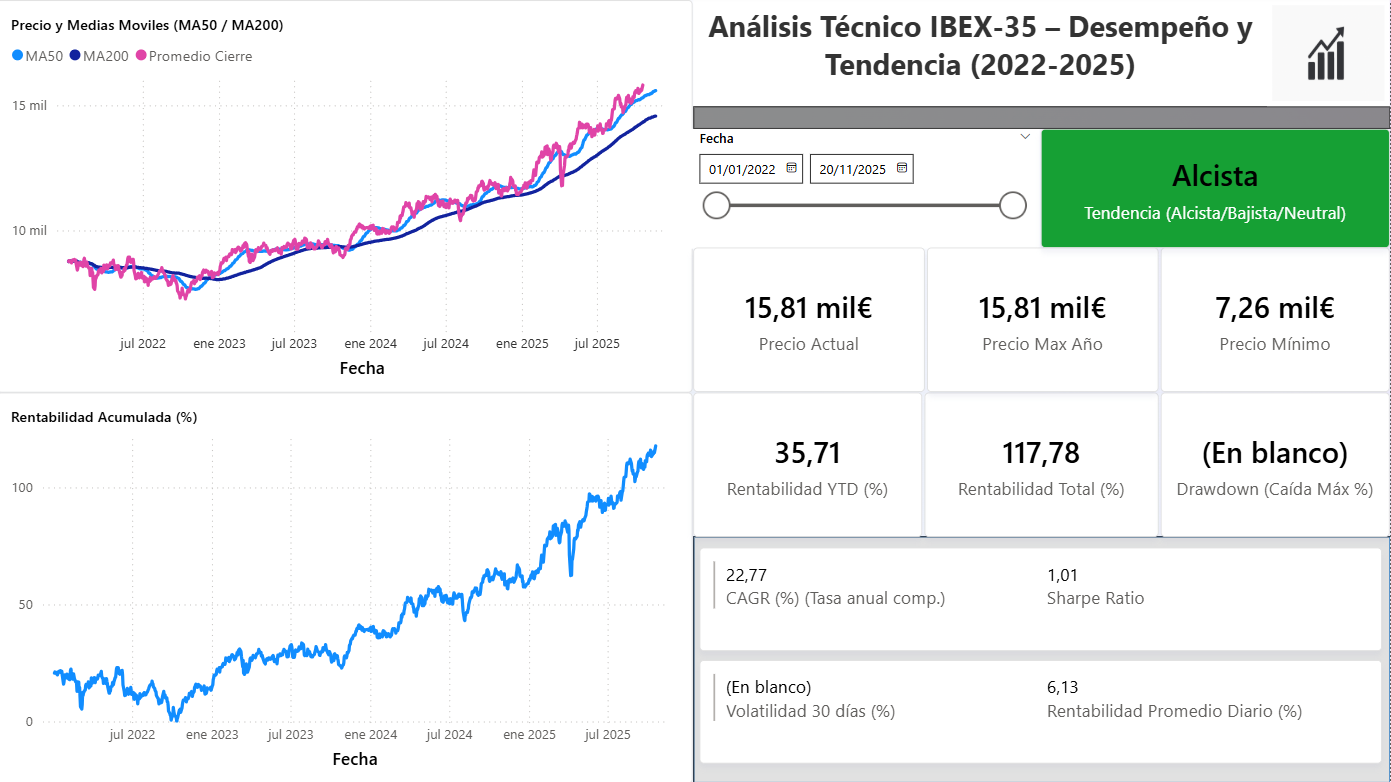

The dashboard page shown, as its layout file describes it:
{"tool":"powerbi","page":{"name":"Página 1","canvas":[1280,720],"ordinal":0},"visuals":[{"type":"shape","box":[639.5,493,640.7,226.7],"z":0},{"type":"lineChart","title":"Precio y Medias Moviles (MA50 / MA200)","fields":{"Y":["Medidas.MA50","Medidas.MA200","Medidas.Promedio Cierre"],"Category":["Dim_Fecha.Fecha"]},"box":[0,0,639.5,360.5],"z":1000},{"type":"lineChart","title":"Rentabilidad Acumulada (%)","fields":{"Y":["Medidas.Rentabilidad Acumulada Diario (%)"],"Category":["Dim_Fecha.Fecha"]},"box":[0,360.5,639.5,359.3],"z":2000},{"type":"slicer","fields":{"Values":["Dim_Fecha.Fecha"]},"box":[637.2,118.6,319.8,109.3],"z":3000},{"type":"card","fields":{"Values":["Medidas.Precio Actual"]},"box":[639.5,227.9,212.8,132.6],"z":4000},{"type":"card","fields":{"Values":["Medidas.Rentabilidad Total (%)"]},"box":[852.3,360.5,215.1,132.6],"z":5000},{"type":"card","fields":{"Values":["Medidas.Rentabilidad YTD (%)"]},"box":[639.5,360.5,210.5,132.6],"z":6000},{"type":"card","fields":{"Values":["Medidas.Precio Max Año"]},"box":[854.7,227.9,212.8,132.6],"z":7000},{"type":"card","fields":{"Values":["Medidas.Precio Mínimo"]},"box":[1069.8,227.9,210.5,132.6],"z":8000},{"type":"card","fields":{"Values":["Medidas.Tendencia MA v2"]},"box":[959.3,118.6,320.9,109.3],"z":9000},{"type":"multiRowCard","fields":{"Values":["Medidas.CAGR (%)","Medidas.Sharpe Ratio"]},"box":[645.6,503.1,627.2,95.3],"z":10000},{"type":"multiRowCard","fields":{"Values":["Medidas.Volatilidad_30d_pct","Medidas.Rentabilidad Promedio Diario (%)"]},"box":[645.6,606.5,627.2,95.3],"z":11000},{"type":"textbox","box":[639.5,0,527.9,97.7],"z":12000},{"type":"shape","box":[639.5,97.7,640.7,20.9],"z":13000},{"type":"image","box":[1167.4,0,112.8,97.7],"z":14000},{"type":"card","fields":{"Values":["Medidas.Drawdown Seleccionado v2"]},"box":[1069.8,360.5,210.5,132.6],"z":15000}]}

Visuals, with their boxes in screenshot pixels (x1, y1, x2, y2), scaled from the page's 1280x720 canvas onto the 1391x782 screenshot:
shape: 695, 535, 1390, 781
"Precio y Medias Moviles (MA50 / MA200)" lineChart: 0, 0, 695, 392
"Rentabilidad Acumulada (%)" lineChart: 0, 392, 695, 781
slicer - Dim_Fecha.Fecha: 692, 129, 1040, 248
card - Medidas.Precio Actual: 695, 248, 926, 392
card - Medidas.Rentabilidad Total (%): 926, 392, 1160, 536
card - Medidas.Rentabilidad YTD (%): 695, 392, 924, 536
card - Medidas.Precio Max Año: 929, 248, 1160, 392
card - Medidas.Precio Mínimo: 1163, 248, 1390, 392
card - Medidas.Tendencia MA v2: 1042, 129, 1390, 248
multiRowCard - Medidas.CAGR (%) x Medidas.Sharpe Ratio: 702, 546, 1383, 650
multiRowCard - Medidas.Volatilidad_30d_pct x Medidas.Rentabilidad Promedio Diario (%): 702, 659, 1383, 762
textbox: 695, 0, 1269, 106
shape: 695, 106, 1390, 129
image: 1269, 0, 1390, 106
card - Medidas.Drawdown Seleccionado v2: 1163, 392, 1390, 536
